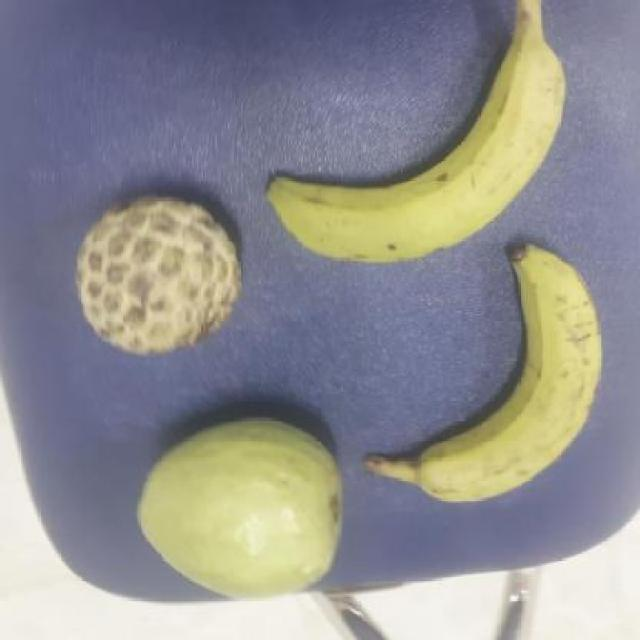banana: (248, 14, 552, 258), (363, 248, 599, 500)
guava: (137, 413, 346, 604)
sugar apple: (68, 194, 244, 352)
